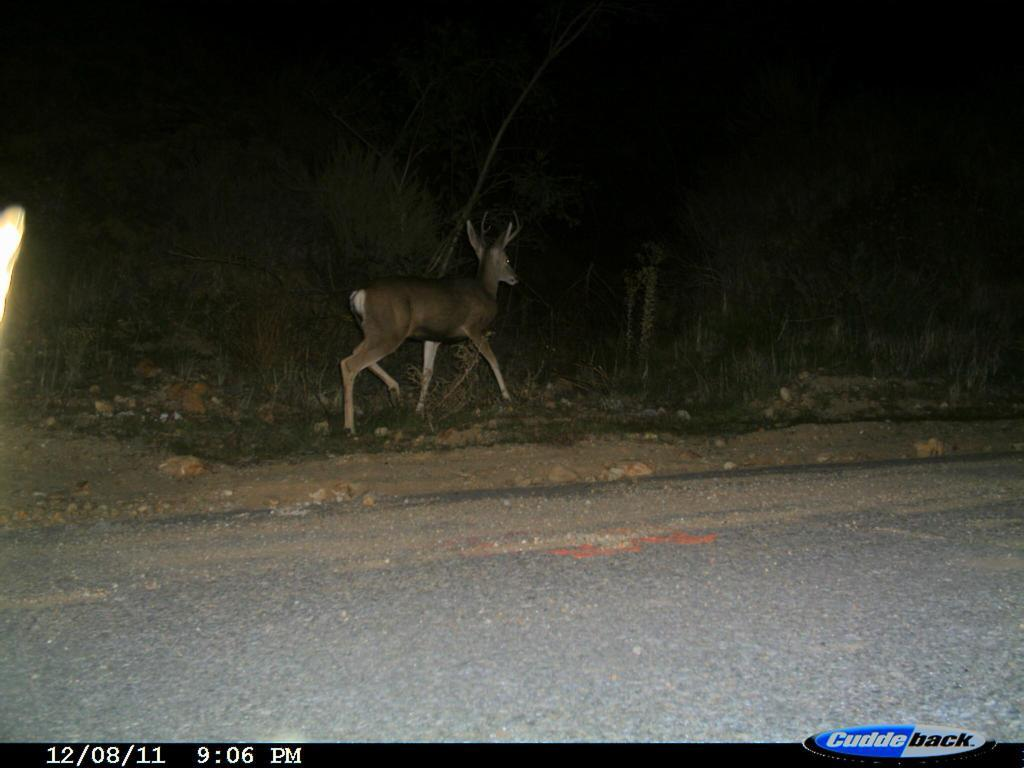deer: (329, 205, 533, 445)
